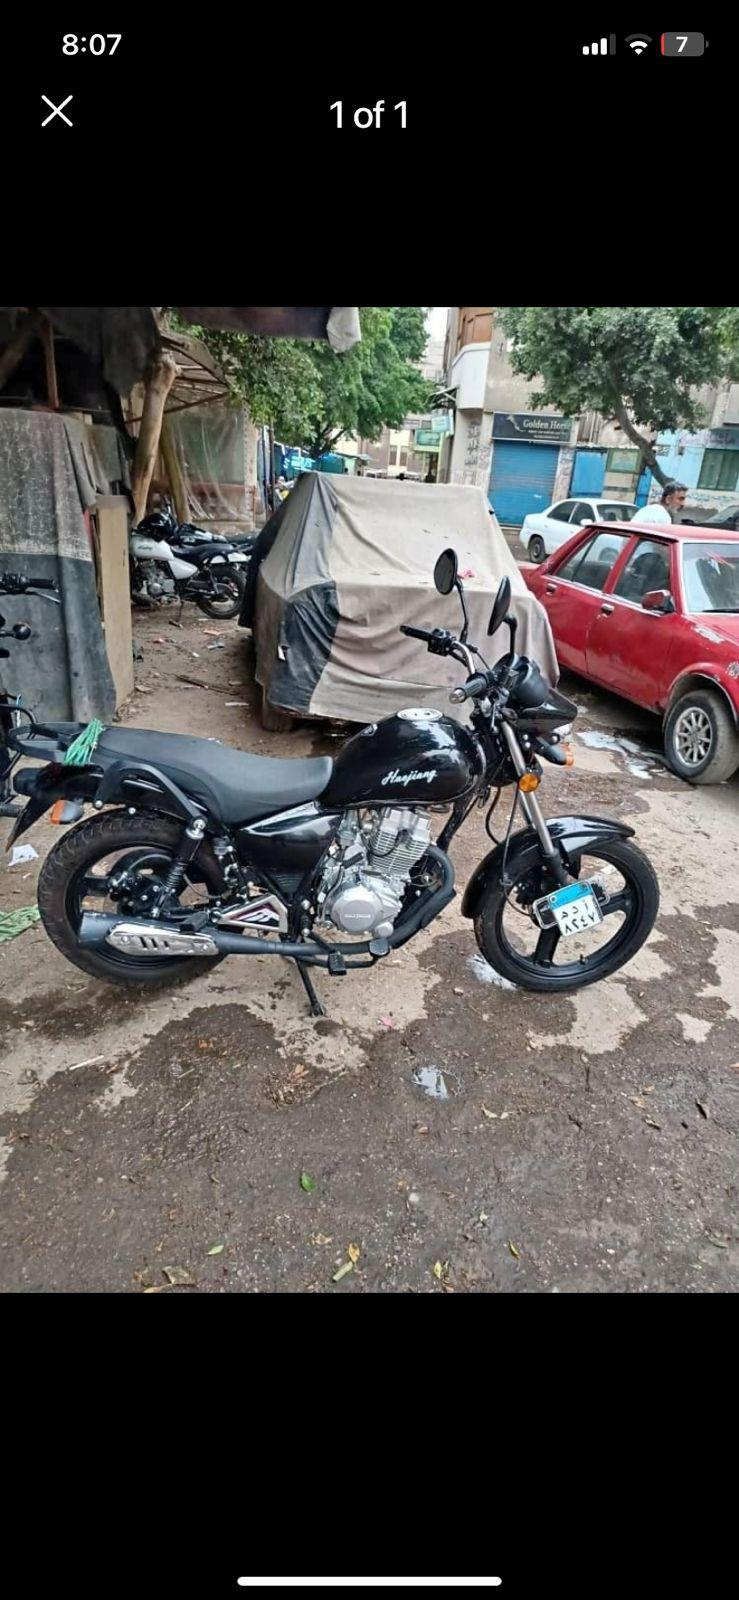License Plate: (544, 881, 605, 938)
